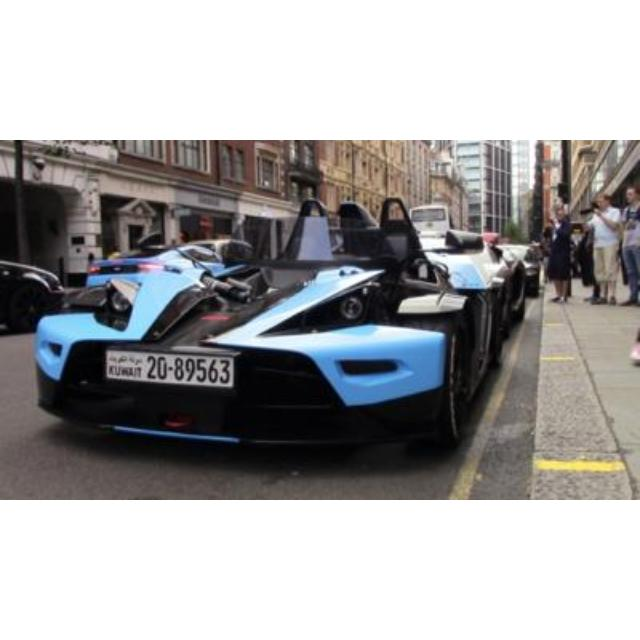car: (45, 197, 538, 451), (78, 243, 218, 285)
plate: (104, 350, 236, 388)
